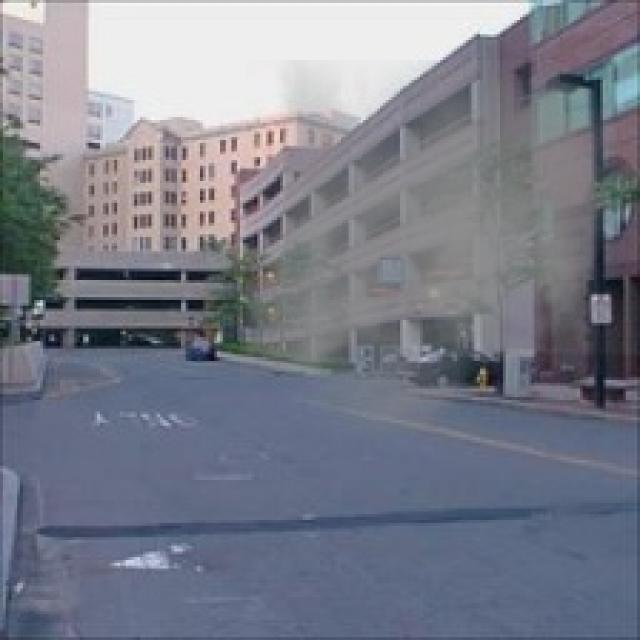smoke: (240, 60, 617, 449)
